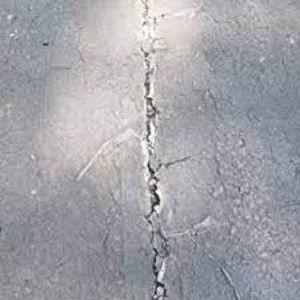crack: (135, 0, 173, 300)
